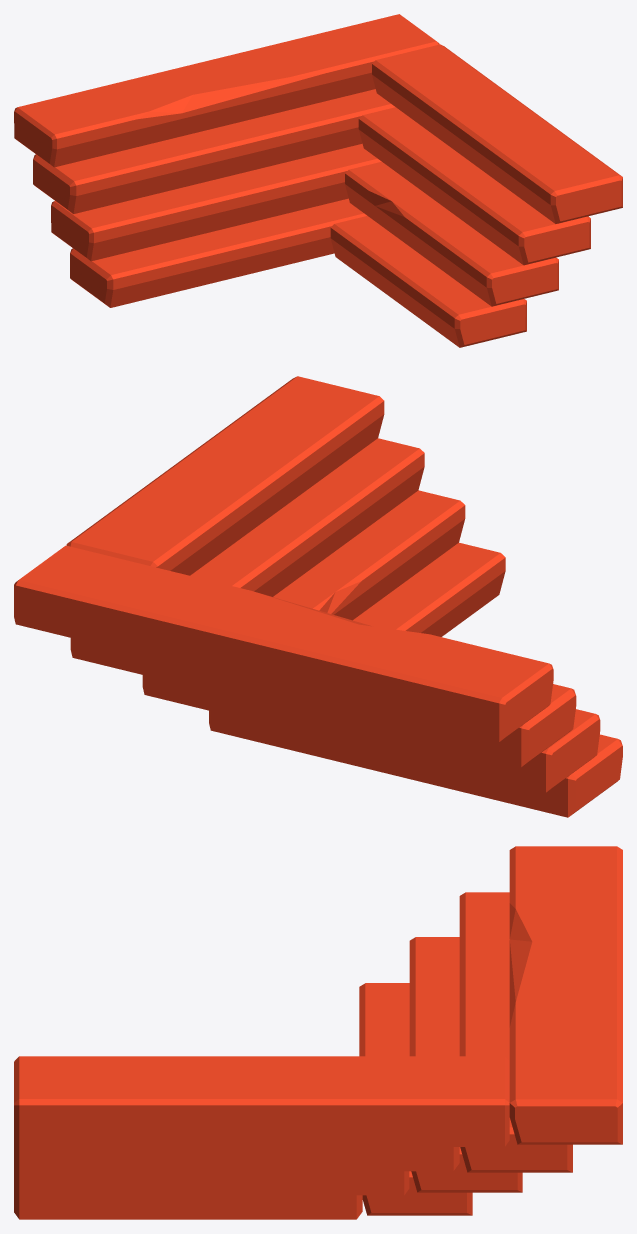
The model's file is SM_Stairs_Corner_Inner_City.fbx.
3 views of the same model, one above another, from view 1: azimuth 30°, elevation 25°; view 2: azimuth 150°, elevation 25°; view 3: azimuth 270°, elevation 25° (orthographic). The views are drawn at different scales.
Visible parts, largest first — view 1: SM_Stairs_Corner_Inner_City; view 2: SM_Stairs_Corner_Inner_City; view 3: SM_Stairs_Corner_Inner_City.
Boxes of the visible parts, x1,y1,x2,y2 form: SM_Stairs_Corner_Inner_City: (14, 14, 622, 347); SM_Stairs_Corner_Inner_City: (14, 376, 622, 817); SM_Stairs_Corner_Inner_City: (14, 846, 622, 1219).
Size of the model in its own units: 3.04 by 1 by 3.04.
